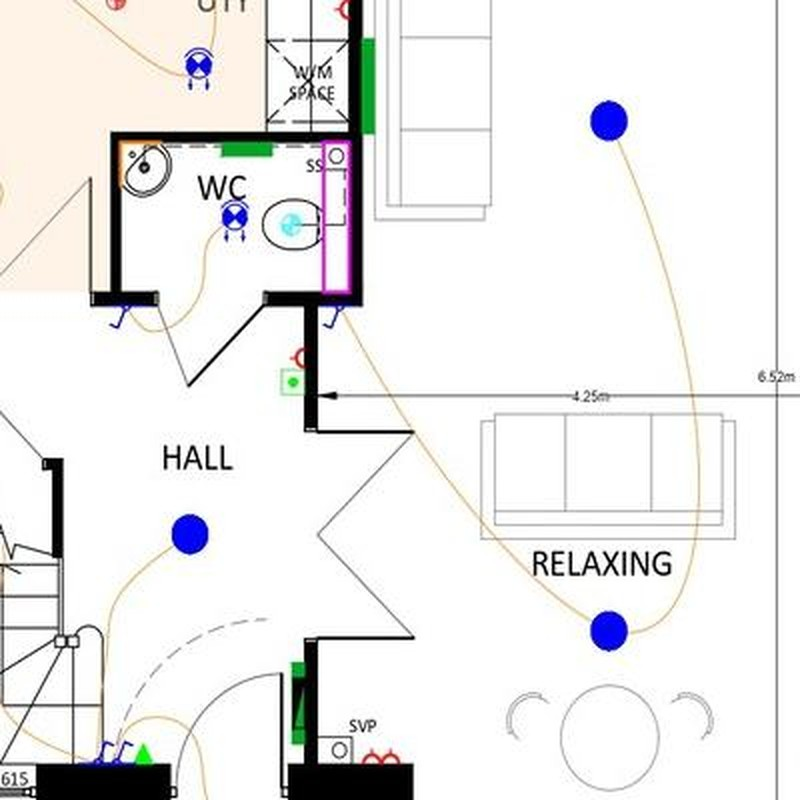BT Entry Point: (132, 743, 152, 765)
Ceiling Mounted Continuous Extract FanWith Boost Mode Activated By Light Switch: (281, 216, 300, 234)
Ceiling Mounted Continuous Extract FanWith Local Boost Switch: (106, 1, 124, 9)
Consumer Unit: (292, 677, 306, 730)
Double Socket: (362, 748, 400, 764)
Light Switch: (323, 306, 344, 329), (110, 306, 131, 328), (113, 740, 133, 761), (94, 741, 113, 763)
Low Energy Downlighter: (184, 47, 214, 90), (220, 200, 249, 242)
Low Energy Pendant Light: (172, 514, 209, 554), (592, 101, 629, 140), (591, 613, 628, 652)
Programmable Room Thermostat: (281, 368, 304, 396)
Radiator: (292, 661, 307, 745), (362, 39, 375, 135), (221, 143, 273, 157)
Single Socket: (333, 1, 350, 19), (290, 348, 305, 368)
